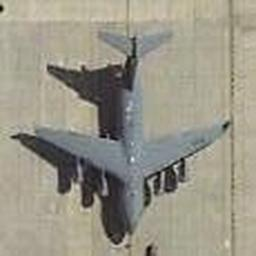Airplane: (28, 28, 231, 255)
